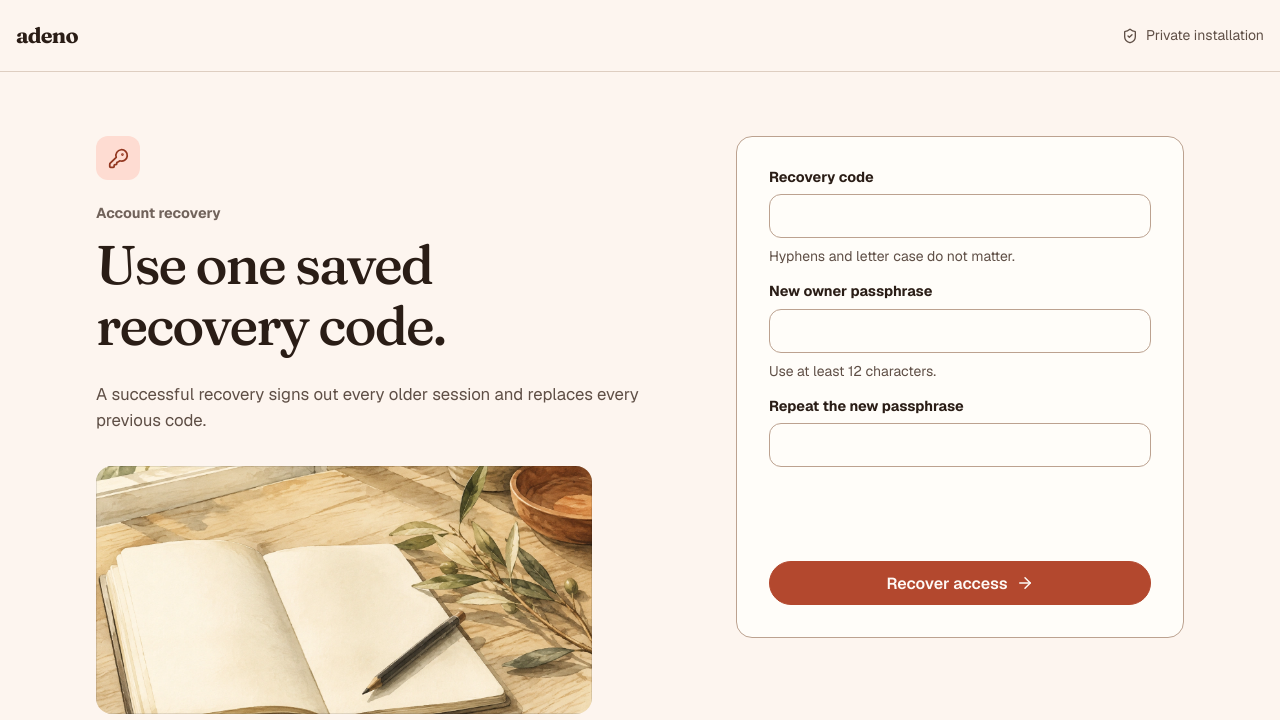
Test: replaces recovery codes after a successful account recovery
In the field labelled "Recovery code": (960, 216) 769,194 -> 1151,238, type "AAAA-BBBB-CCCC-DDDD"
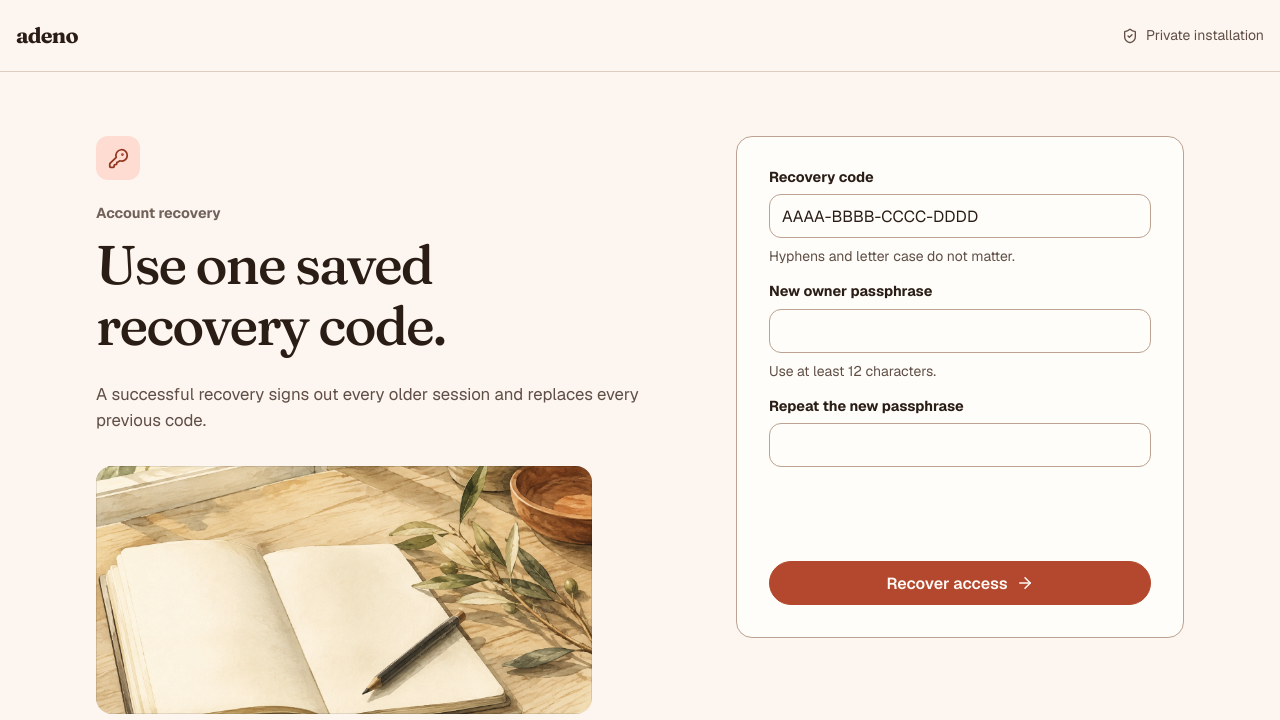
In the password field labelled "New owner passphrase": (960, 331) 769,309 -> 1151,353, type "synthetic replacement passphrase"
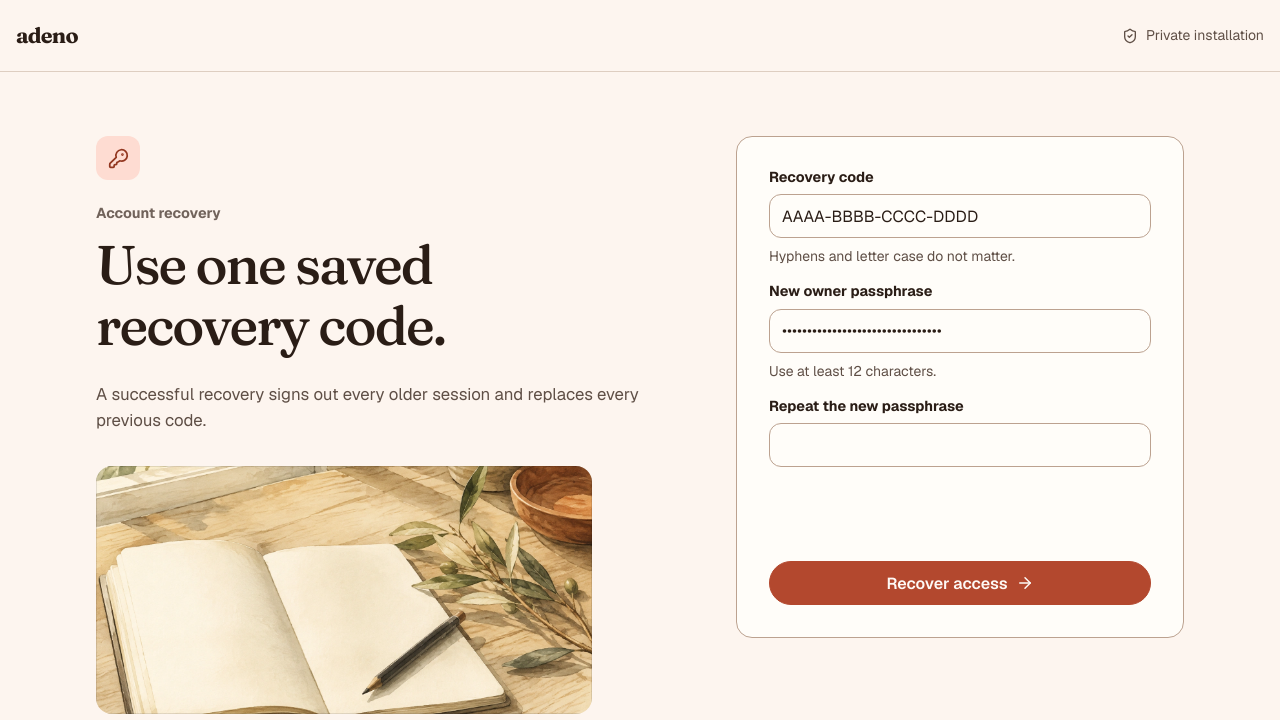
In the password field labelled "Repeat the new passphrase": (960, 445) 769,423 -> 1151,467, type "synthetic replacement passphrase"
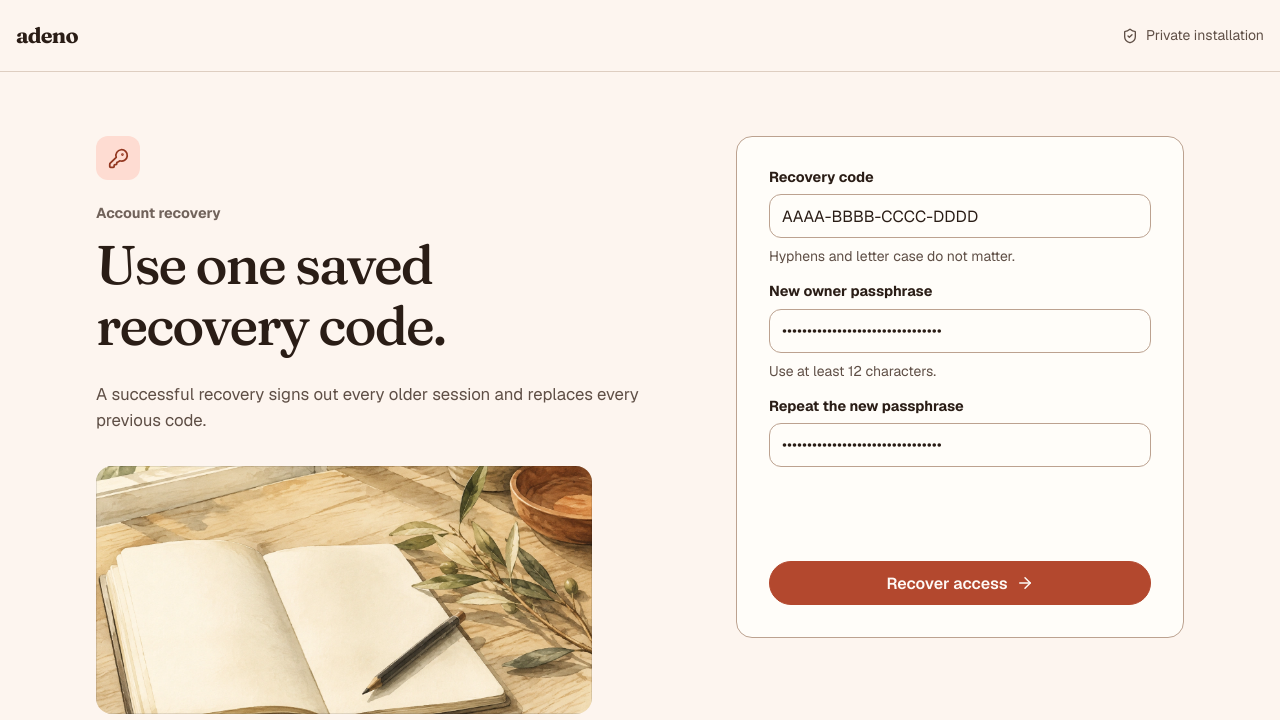
Click the button "Recover access": (960, 583) 769,561 -> 1151,605
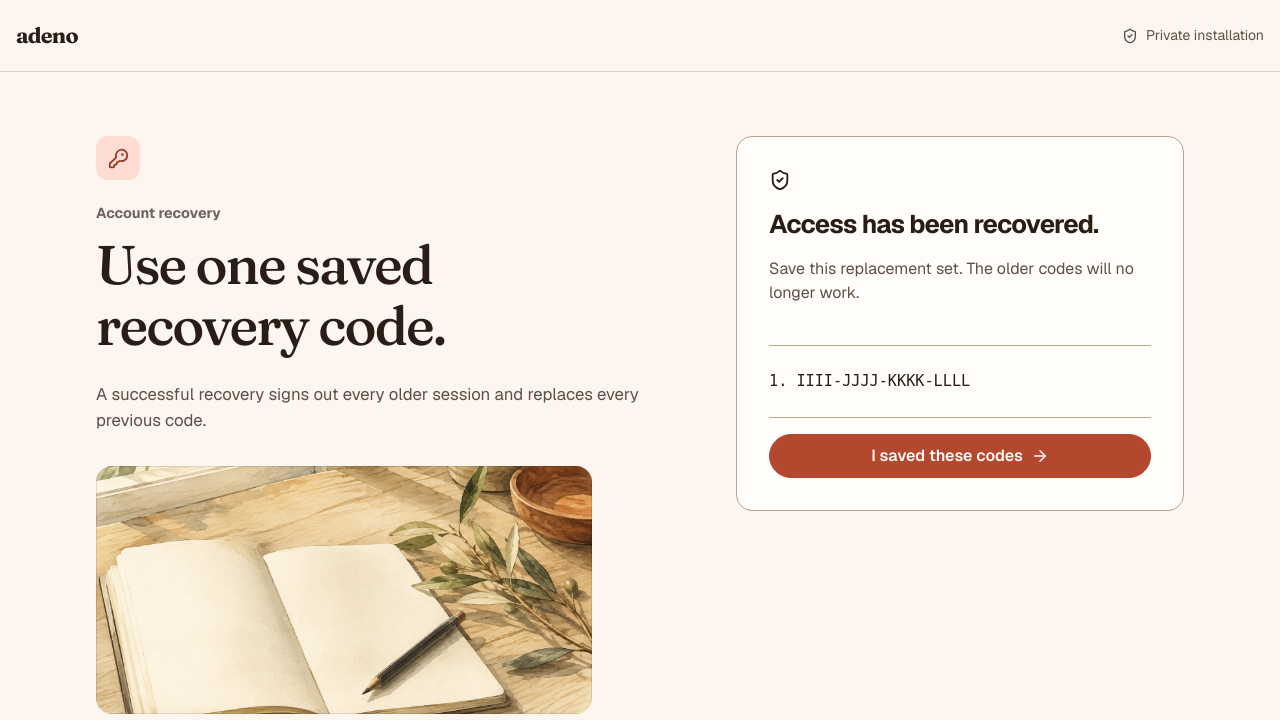
Now the heading "Access has been recovered." is shown, box 769,207 -> 1151,241
Now the list item "IIII-JJJJ-KKKK-LLLL" is shown, box 769,370 -> 944,393
